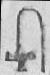Q7: (4, 0, 46, 74)
